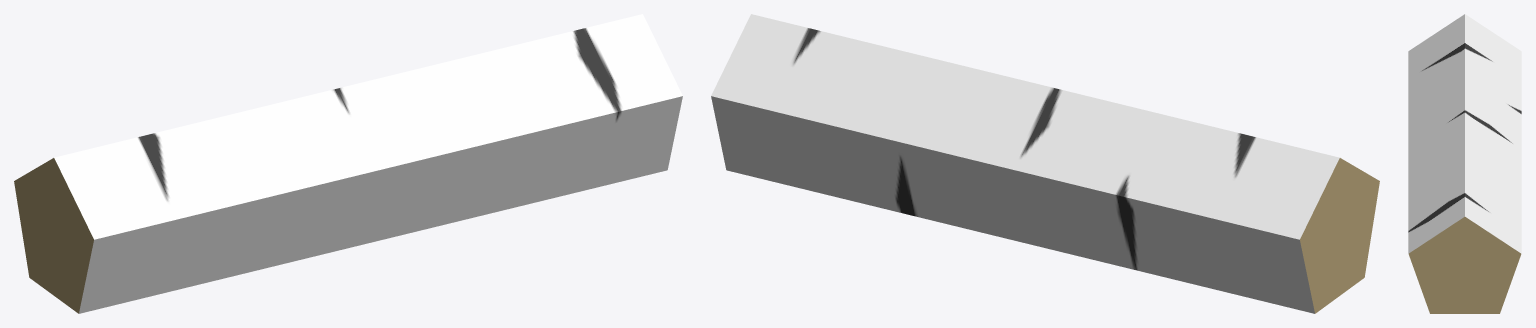
The model's file is Birch_Firewood_01_LOD.fbx.
3 views of the same model, side by side, from view 1: azimuth 30°, elevation 25°; view 2: azimuth 150°, elevation 25°; view 3: azimuth 270°, elevation 25° (orthographic). The views are drawn at different scales.
Visible parts, largest first — view 1: Birch_Firewood_01_LOD0; view 2: Birch_Firewood_01_LOD0; view 3: Birch_Firewood_01_LOD0.
Boxes of the visible parts, box(x1,y1,x2,y2) form: Birch_Firewood_01_LOD0: box(14, 14, 682, 313); Birch_Firewood_01_LOD0: box(711, 14, 1379, 313); Birch_Firewood_01_LOD0: box(1408, 14, 1521, 313).
Size of what is drawn, in the model's own units: 56 by 12.56 by 13.2.
